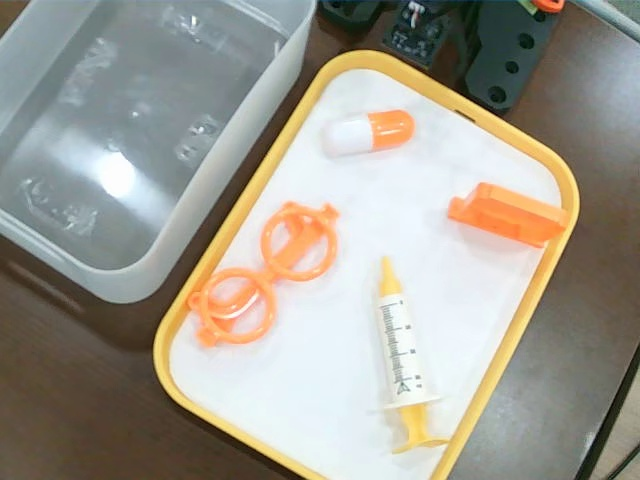pill: (322, 109, 416, 157)
syringe: (371, 254, 452, 455)
